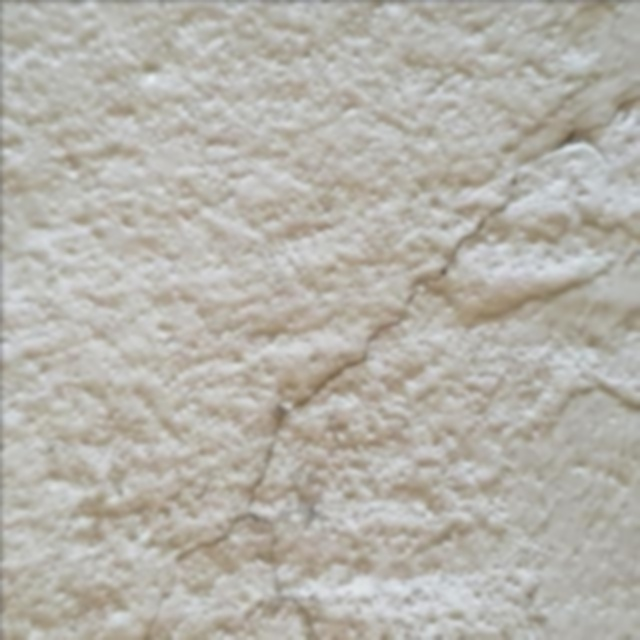SurfaceCrack: (137, 9, 640, 639)
